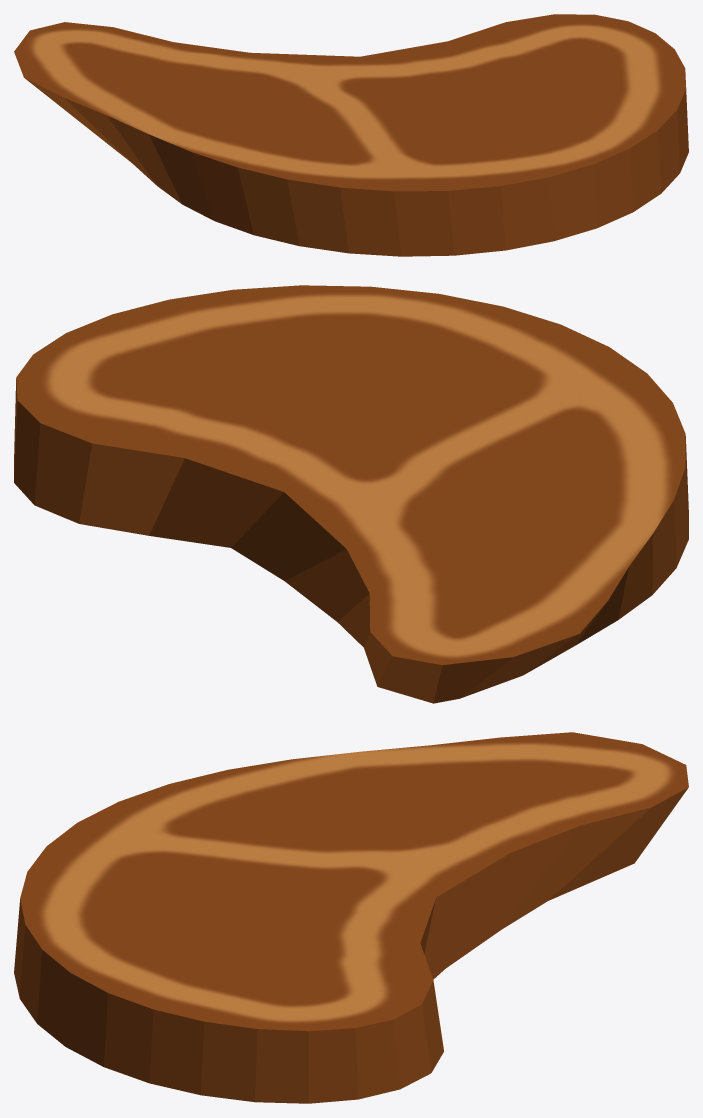
Rendered from carneCocida.obj.
The picture shows the model from 3 angles, top to bottom: view 1: azimuth 30°, elevation 25°; view 2: azimuth 150°, elevation 25°; view 3: azimuth 270°, elevation 25°; orthographic projection. The views are drawn at different scales.
Visible parts, largest first — view 1: Cylinder; view 2: Cylinder; view 3: Cylinder.
Part boxes in pixels (<box>): Cylinder: <box>14,14,688,256</box>; Cylinder: <box>14,285,688,703</box>; Cylinder: <box>14,732,688,1103</box>.
Bounding box in the file's own units: 2.23 × 0.2803 × 2.13.
1 material, 1 textured.
